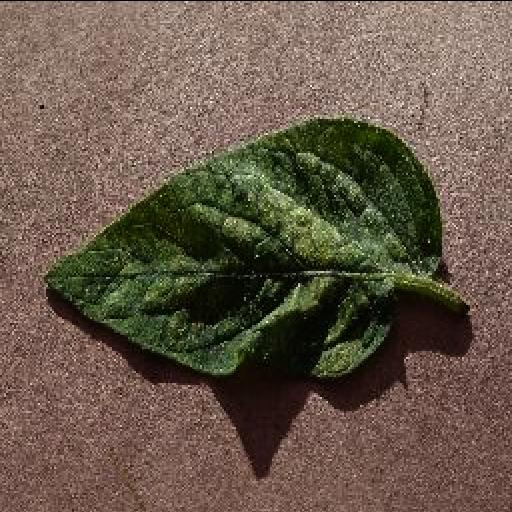disease_tomato: (38, 114, 444, 374)
